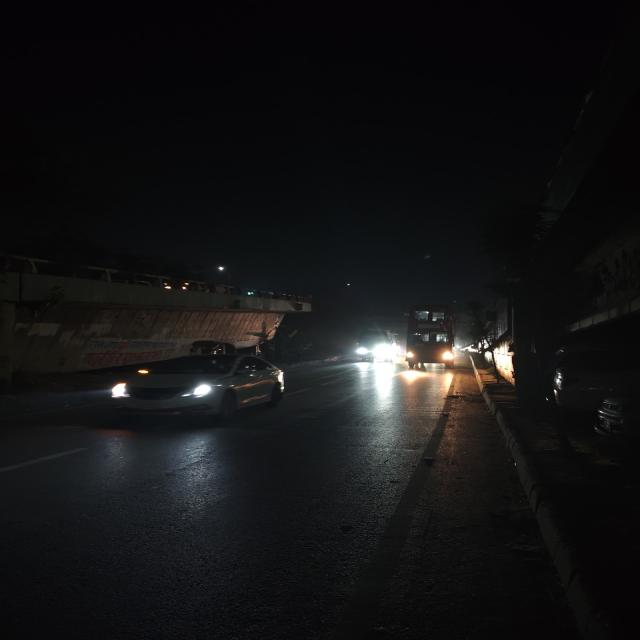bus: (401, 306, 456, 371), (352, 324, 399, 365)
car: (109, 352, 294, 425)
